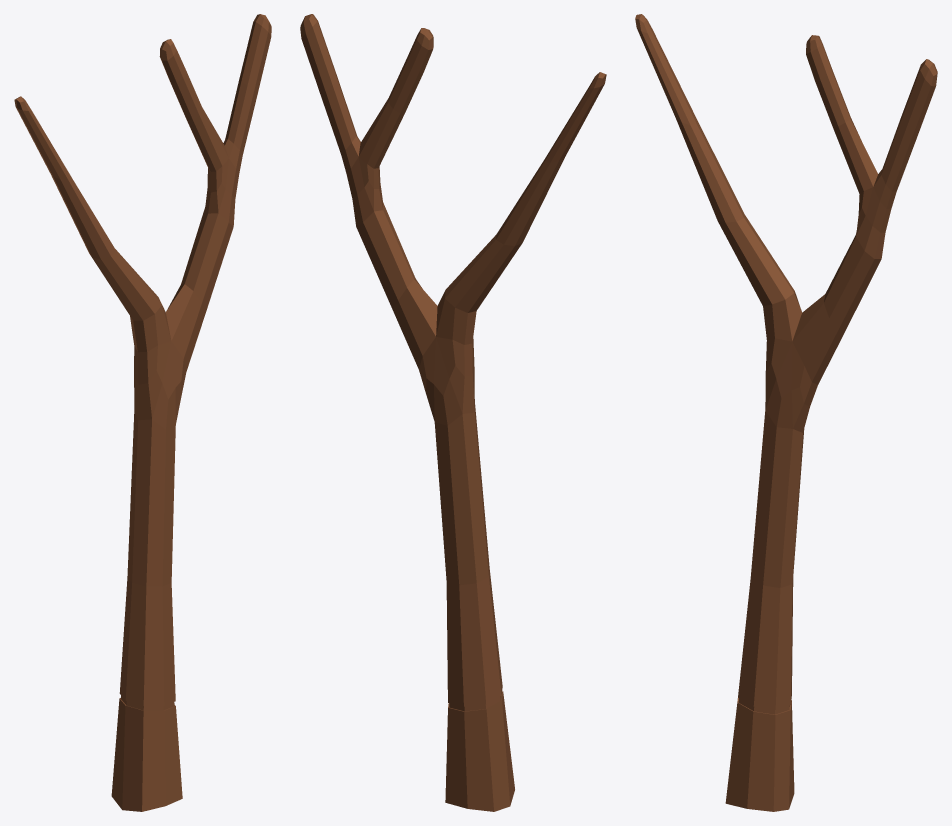
Rendered from Trunk_v06.fbx.
3 views of the same model, side by side, from view 1: azimuth 30°, elevation 25°; view 2: azimuth 150°, elevation 25°; view 3: azimuth 330°, elevation 25° (orthographic). The views are drawn at different scales.
Visible parts, largest first — view 1: Trunk_v06; view 2: Trunk_v06; view 3: Trunk_v06.
Boxes of the visible parts, left/top/right/bottom form: Trunk_v06: left=14, top=14, right=271, bottom=811; Trunk_v06: left=300, top=14, right=606, bottom=811; Trunk_v06: left=635, top=14, right=937, bottom=811.
Bounding box in the file's own units: 13.98 × 36.44 × 3.93.
1 material, 1 textured.
